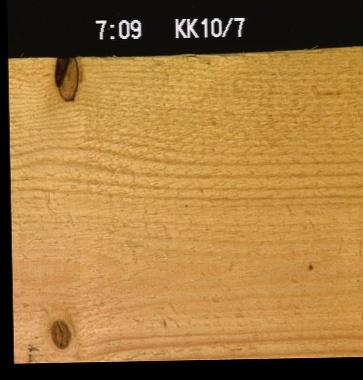small_knot: (276, 228, 321, 273)
sound_knot: (48, 317, 71, 349)
